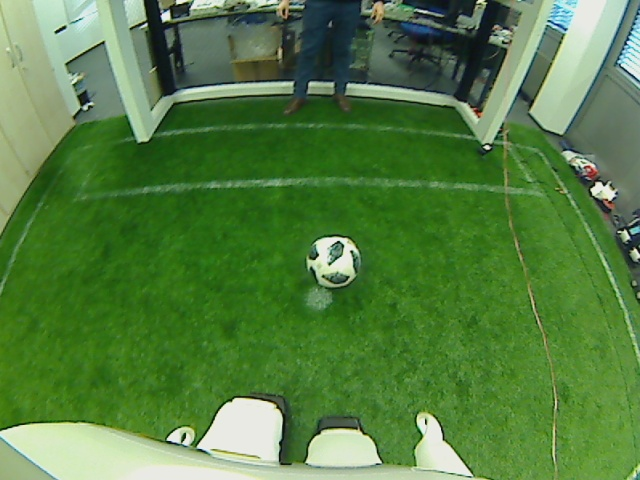ball: (305, 232, 362, 292)
